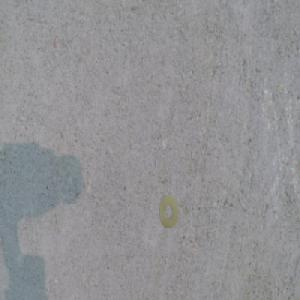Washer: (157, 197, 178, 230)
